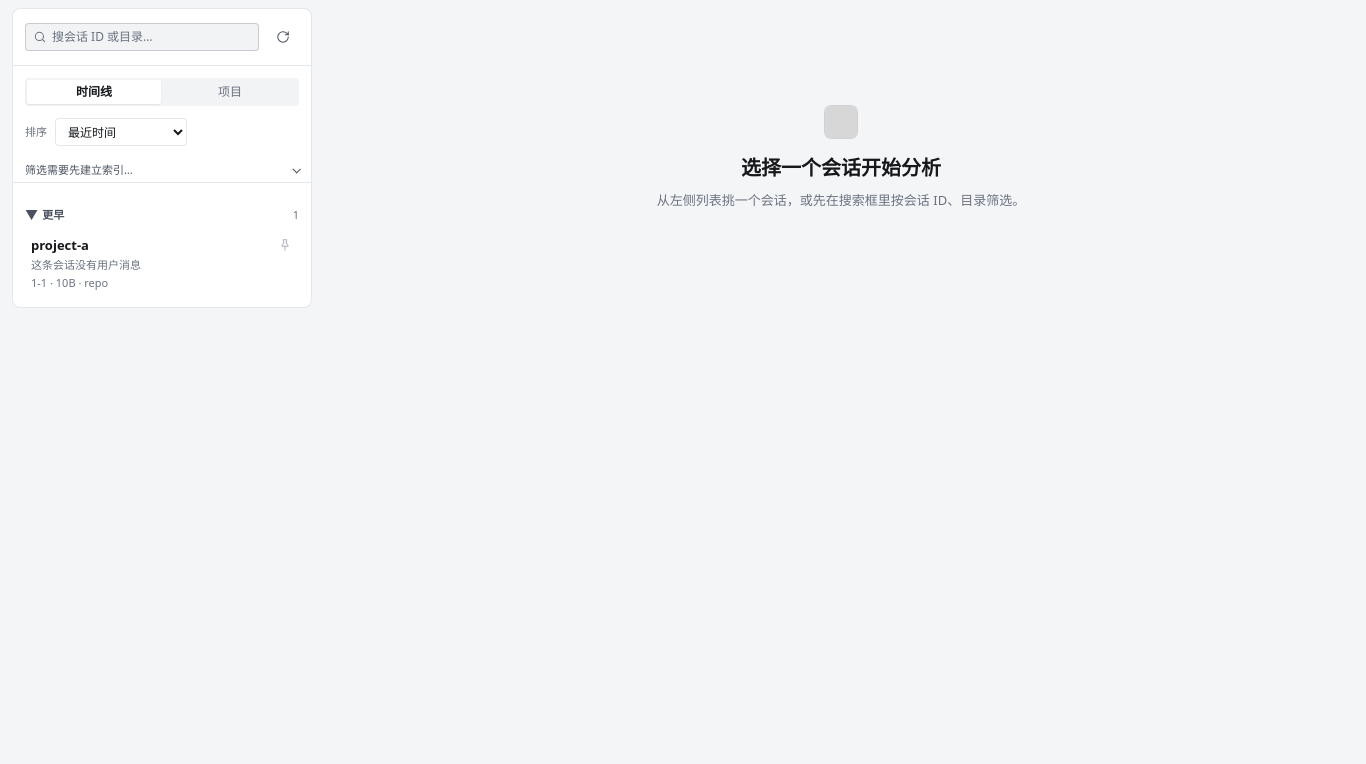
Test: opens a session, filters records, and shows details
Click the button "project-a 这条会话没有用户消息 1-1 · 10B · repo". click: [60, 245]
box: [21,227,303,299]
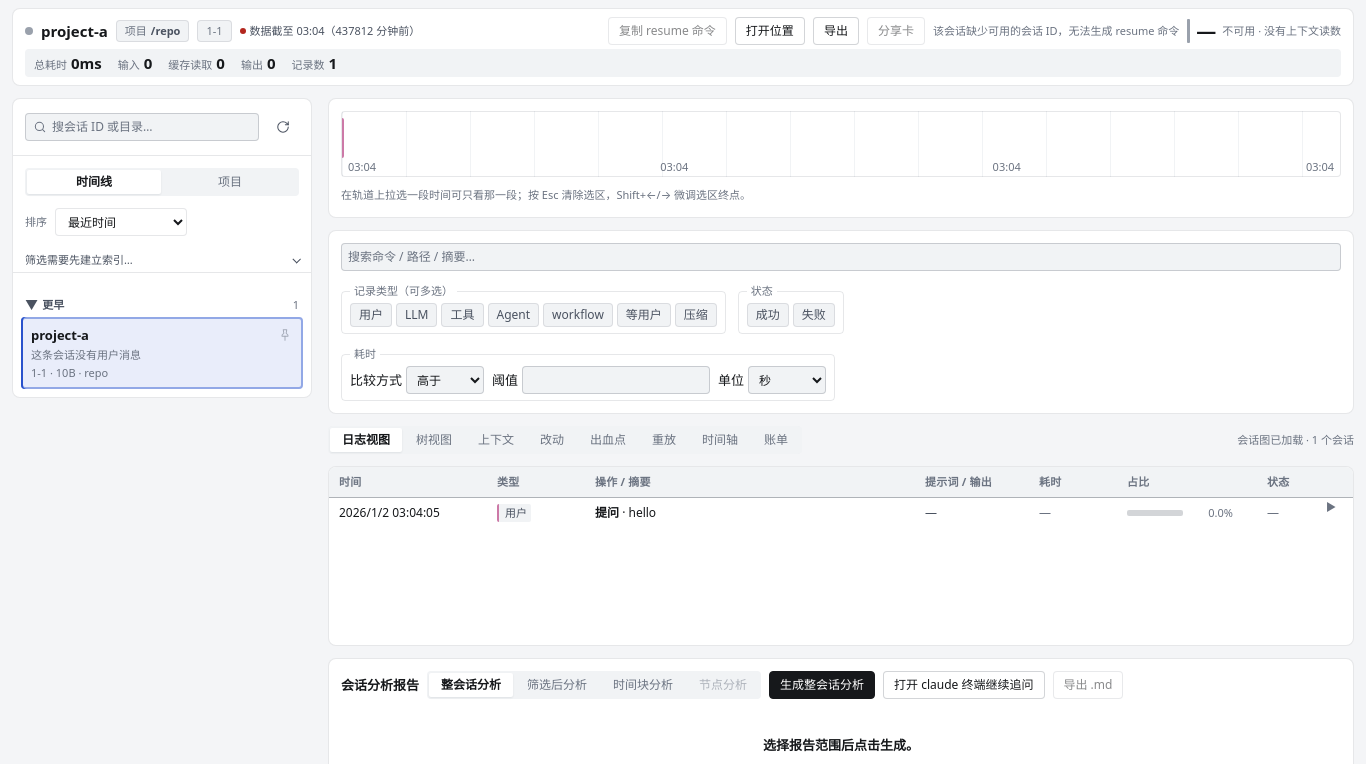
Check: the element named "时间轨道" is shown, box [341,111,1341,177]
Check: the element named "记录筛选" is shown, box [328,230,1354,414]
Check: the text "提问 · hello" is shown, box [595,504,656,520]
Click the button named "展开". click: [1331, 506]
box: [1319,494,1343,518]
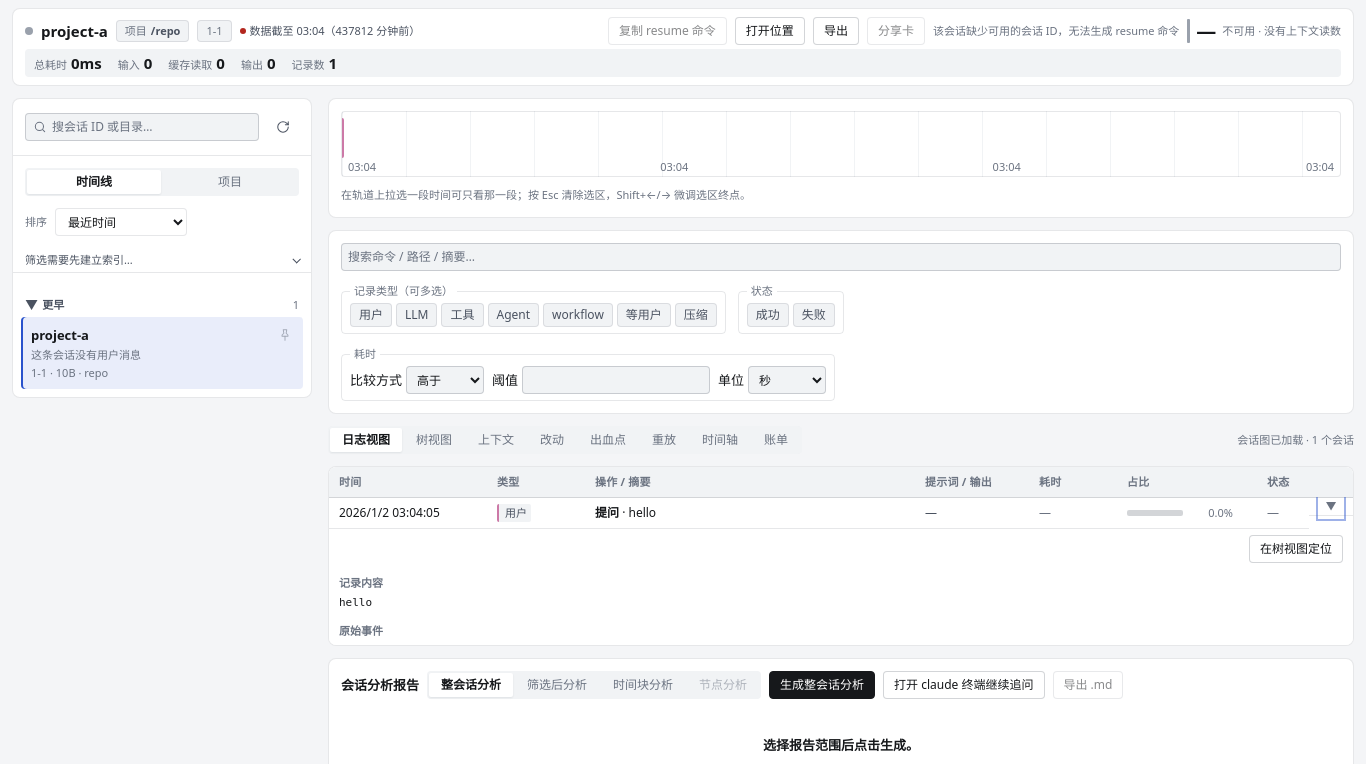
# 展开后记录内容面板也会出现同样的文本，点操作列选中该行。
Click the text "提问". click: [607, 512]
box: [595,504,619,520]
(page scrolled)
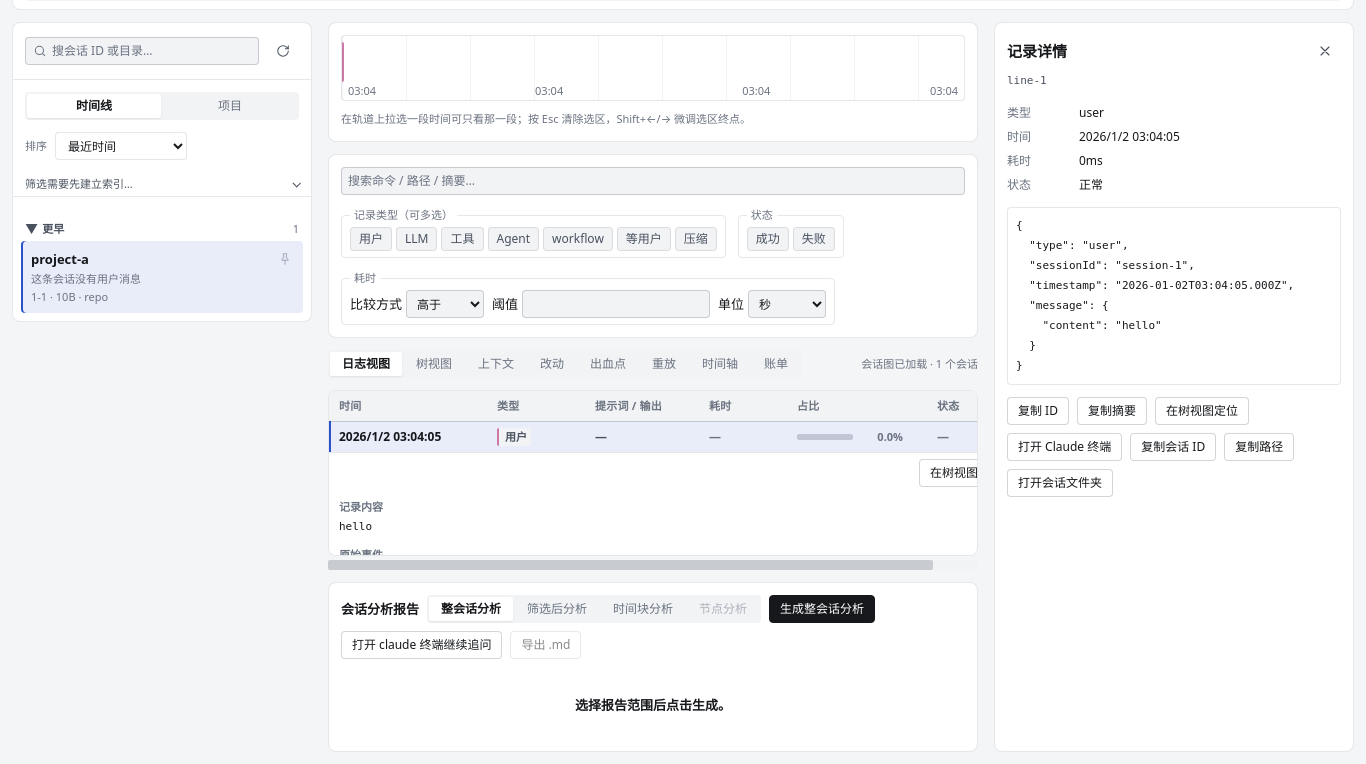
Check: the element "记录详情" is shown, box [994,22,1354,752]
